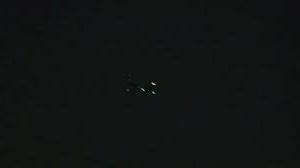Plane: (103, 72, 179, 102)
